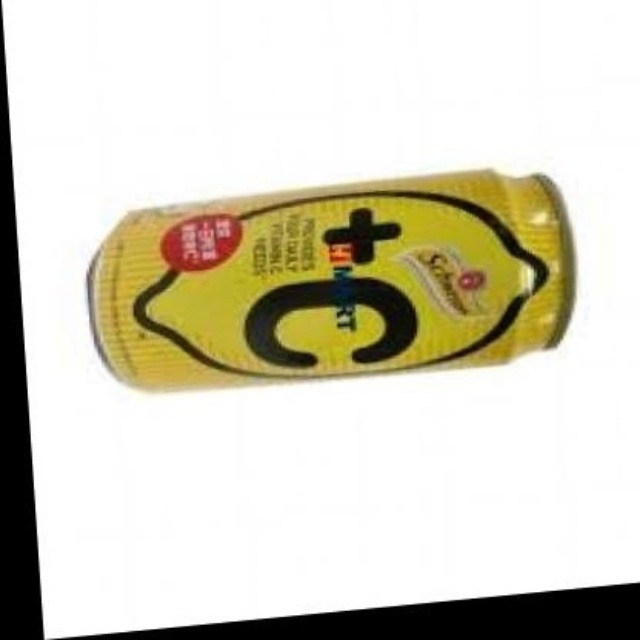trash: (88, 171, 574, 388)
